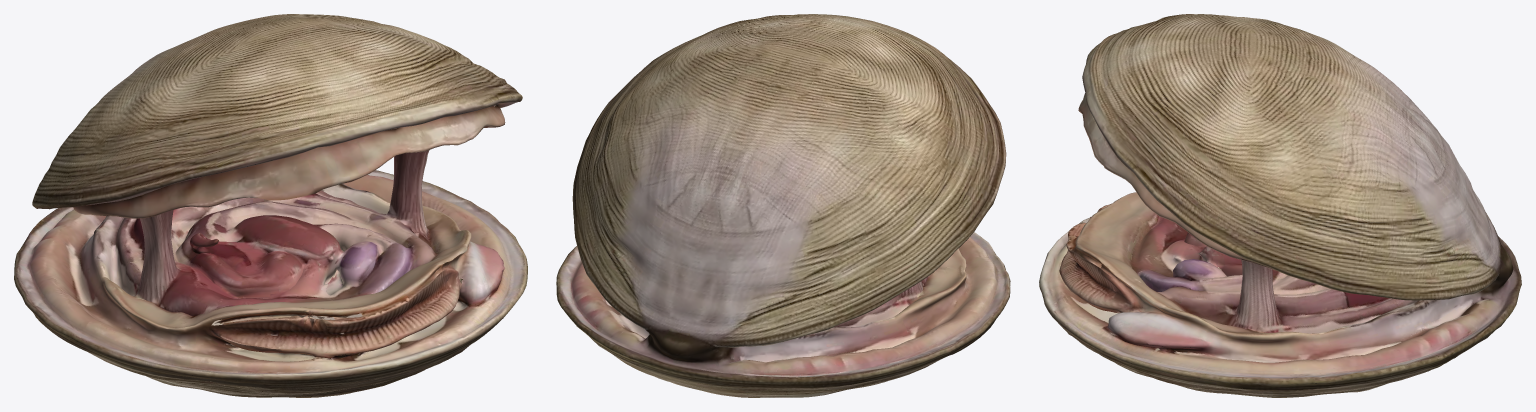
The model's file is seashell.glb.
The picture shows the model from 3 angles, left to right: view 1: azimuth 30°, elevation 25°; view 2: azimuth 150°, elevation 25°; view 3: azimuth 270°, elevation 25°; orthographic projection. The views are drawn at different scales.
Visible parts, largest first — view 1: Mesh_0; view 2: Mesh_0; view 3: Mesh_0.
Part boxes in pixels (x1,y1,x2,y2): Mesh_0: (14, 14, 527, 397); Mesh_0: (556, 14, 1010, 397); Mesh_0: (1039, 14, 1521, 397).
Size of the model in its own units: 1.91 by 1.37 by 1.9.
1 material, 1 textured.
